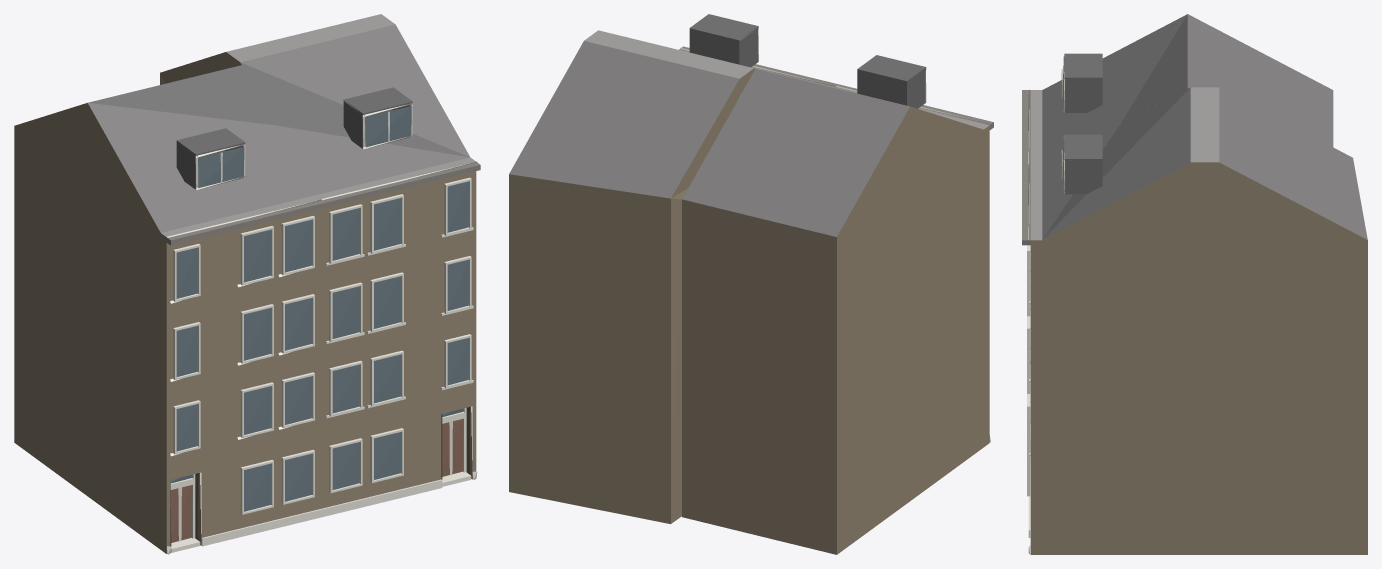
Rendered from chunk-face-leijnsen-2-30-r2.lod2.glb.
3 views of the same model, side by side, from view 1: azimuth 30°, elevation 25°; view 2: azimuth 150°, elevation 25°; view 3: azimuth 270°, elevation 25° (orthographic).
Parts seen in each view (by area): view 1: lod2; view 2: lod2; view 3: lod2.
Boxes of the visible parts, x1,y1,x2,y2 form: lod2: [14, 14, 480, 554]; lod2: [509, 14, 993, 554]; lod2: [1022, 14, 1367, 554].
Size of the model in its own units: 12.37 by 15.07 by 12.03.
